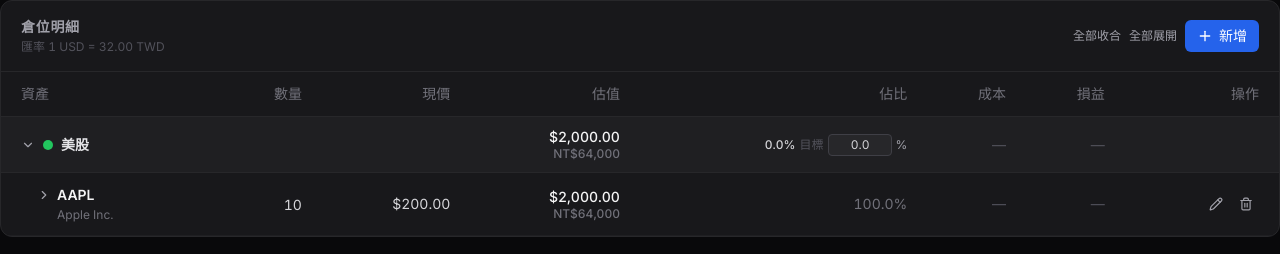
Test: PositionTable › collapses/expands position rows when category header clicked
expect the text "AAPL" is shown: met, box [57,185,94,205]
Click category header to collapse
Click the text "美股": (75,145) [61,135,89,155]
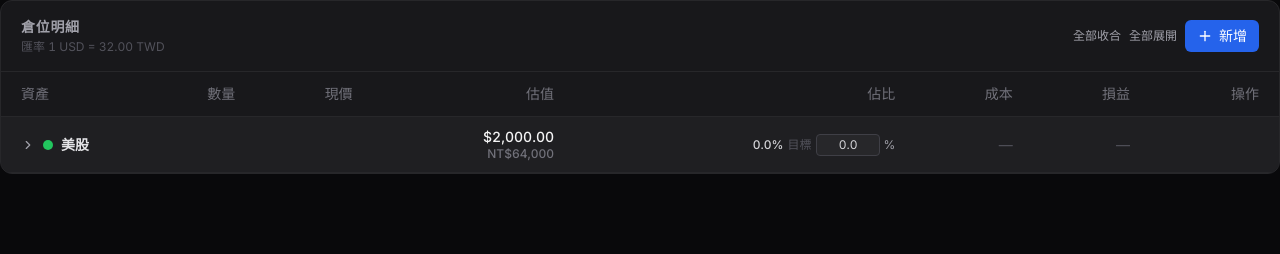
expect the text "AAPL" is gone: met
Click again to expand
Click the text "美股": (75,145) [61,135,89,155]
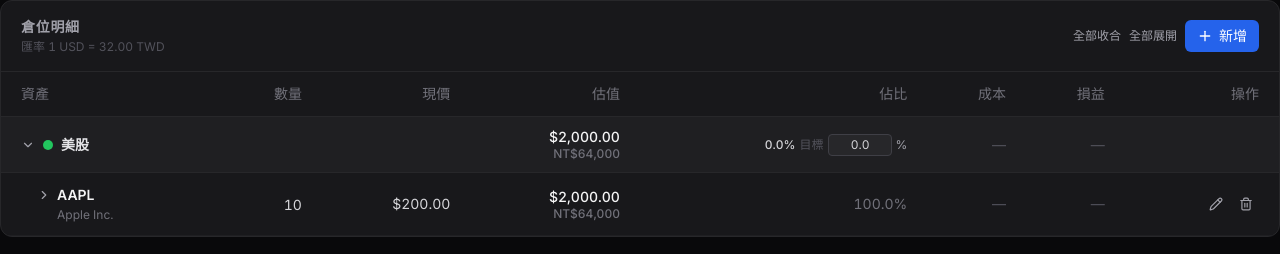
expect the text "AAPL" is shown: met, box [57,185,94,205]
